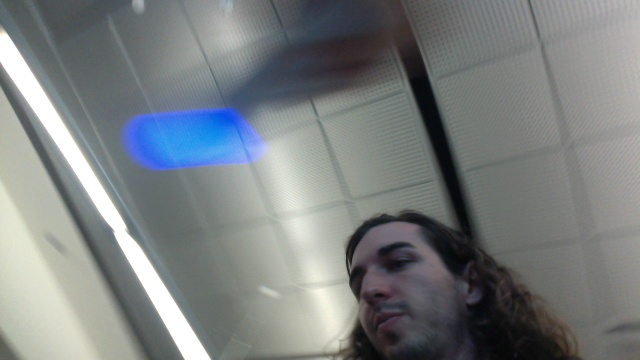wand: (139, 113, 257, 165)
